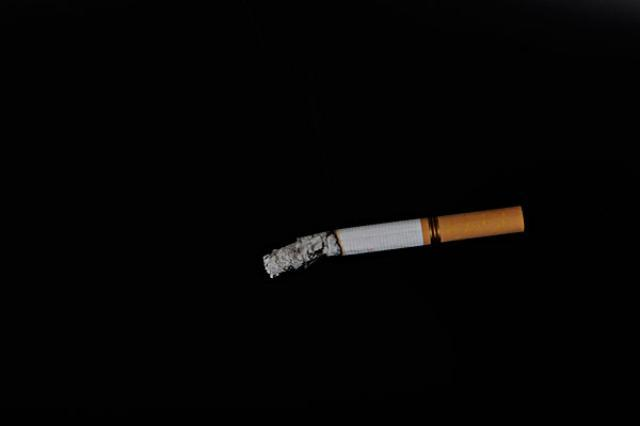Smoking: (260, 206, 526, 280)
